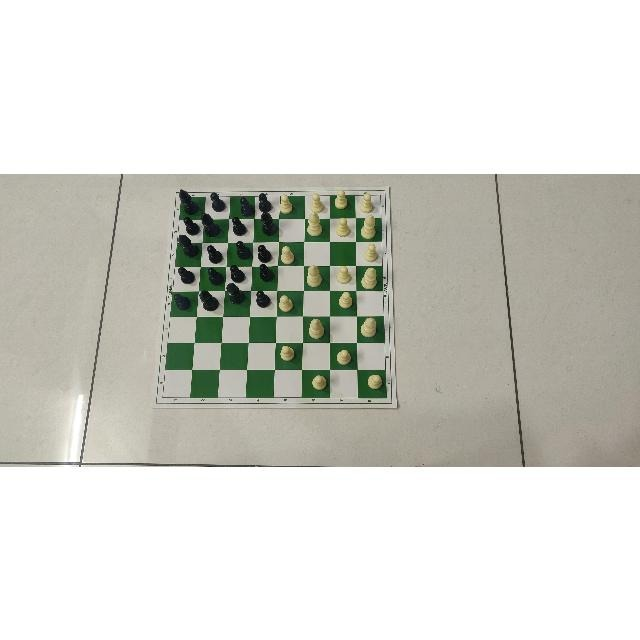black-bishop: (224, 280, 249, 312), (176, 232, 200, 263), (196, 284, 220, 314), (176, 188, 202, 214), (200, 211, 224, 239), (257, 210, 278, 239)
black-pawn: (252, 288, 276, 313), (200, 266, 224, 288), (202, 241, 224, 263), (230, 240, 252, 261), (233, 195, 255, 215), (175, 266, 197, 286), (174, 292, 196, 312), (228, 264, 252, 282), (257, 263, 276, 285), (207, 191, 227, 211), (258, 192, 278, 211), (180, 217, 201, 235), (255, 242, 273, 263), (230, 216, 247, 236)
white-bishop: (301, 211, 325, 237), (305, 315, 329, 338), (358, 318, 383, 340), (306, 262, 328, 287), (361, 211, 379, 238), (360, 266, 383, 287)
white-pawn: (358, 369, 385, 394), (304, 370, 330, 394), (355, 241, 382, 264), (331, 264, 356, 288), (332, 290, 356, 315), (305, 191, 329, 215), (276, 342, 300, 366), (279, 241, 304, 264), (277, 290, 300, 313), (332, 343, 355, 366), (358, 191, 380, 215), (332, 188, 354, 212), (332, 215, 353, 238), (279, 192, 296, 214)
